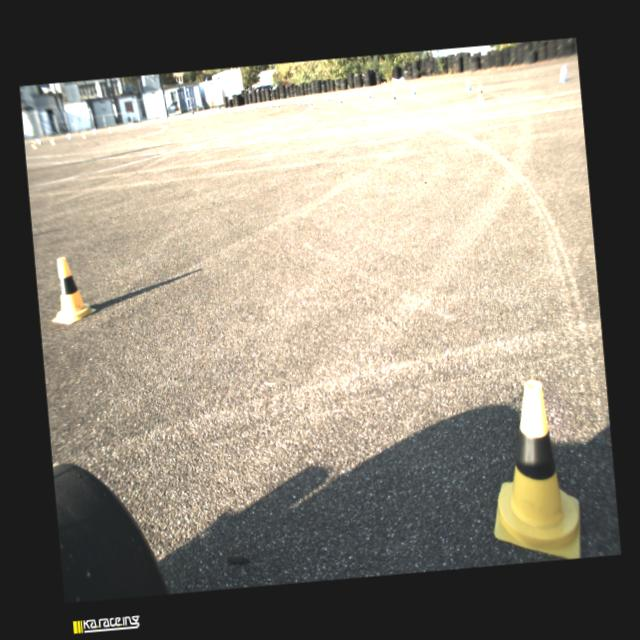blue_cone: (556, 64, 568, 82), (464, 77, 472, 91), (410, 84, 416, 95), (366, 88, 371, 98), (325, 92, 330, 101), (66, 131, 71, 139), (35, 138, 41, 144), (296, 96, 300, 104), (244, 102, 248, 110), (92, 128, 96, 134), (128, 122, 132, 128), (226, 105, 229, 112), (187, 111, 190, 118), (165, 115, 168, 121), (270, 100, 272, 106)
yellow_cone: (481, 376, 584, 565), (46, 254, 97, 326), (474, 84, 484, 102), (390, 91, 398, 108), (337, 96, 343, 108), (308, 100, 314, 110), (106, 125, 112, 134), (49, 136, 55, 145), (31, 140, 36, 149), (253, 106, 258, 114), (81, 130, 86, 138), (276, 103, 280, 111), (136, 120, 140, 128), (204, 110, 208, 116), (194, 112, 198, 118), (229, 108, 232, 114), (170, 116, 173, 122)
